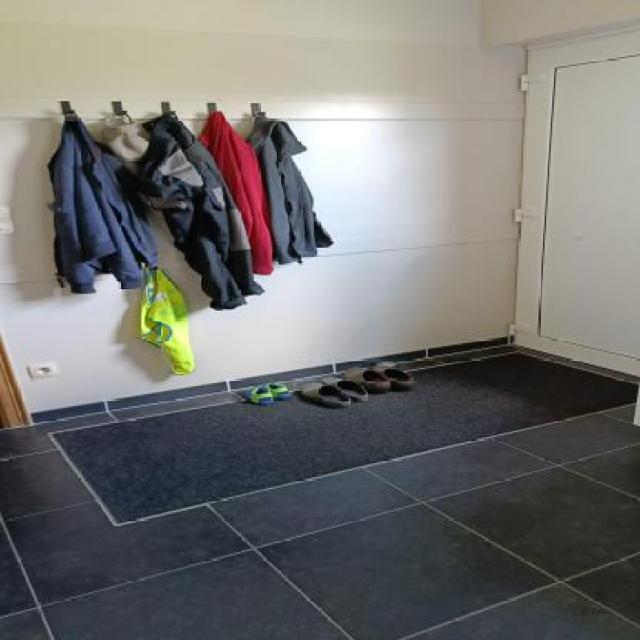Floor: (0, 386, 639, 639), (396, 343, 640, 384), (278, 371, 346, 391)
